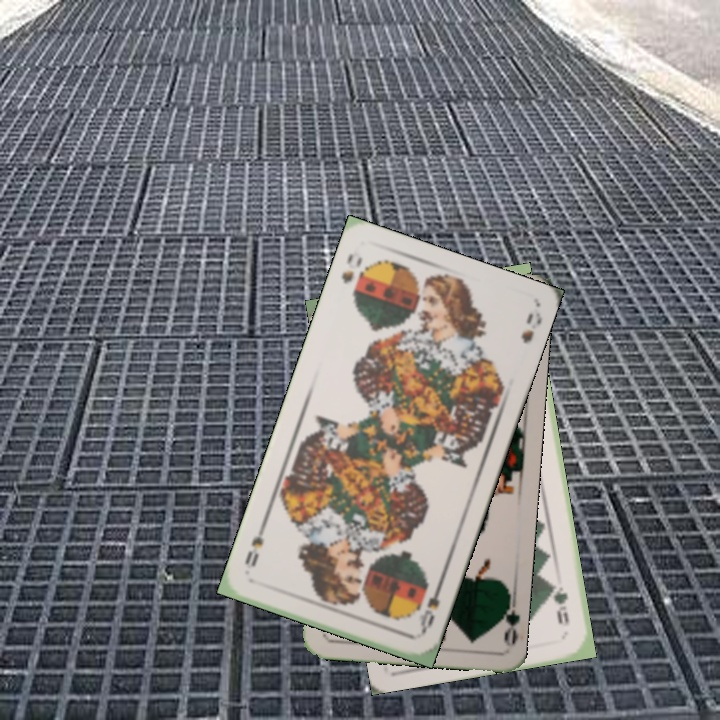G9: (548, 578, 572, 627)
GO: (493, 587, 521, 647)
SO: (415, 580, 444, 638), (337, 249, 365, 286)
